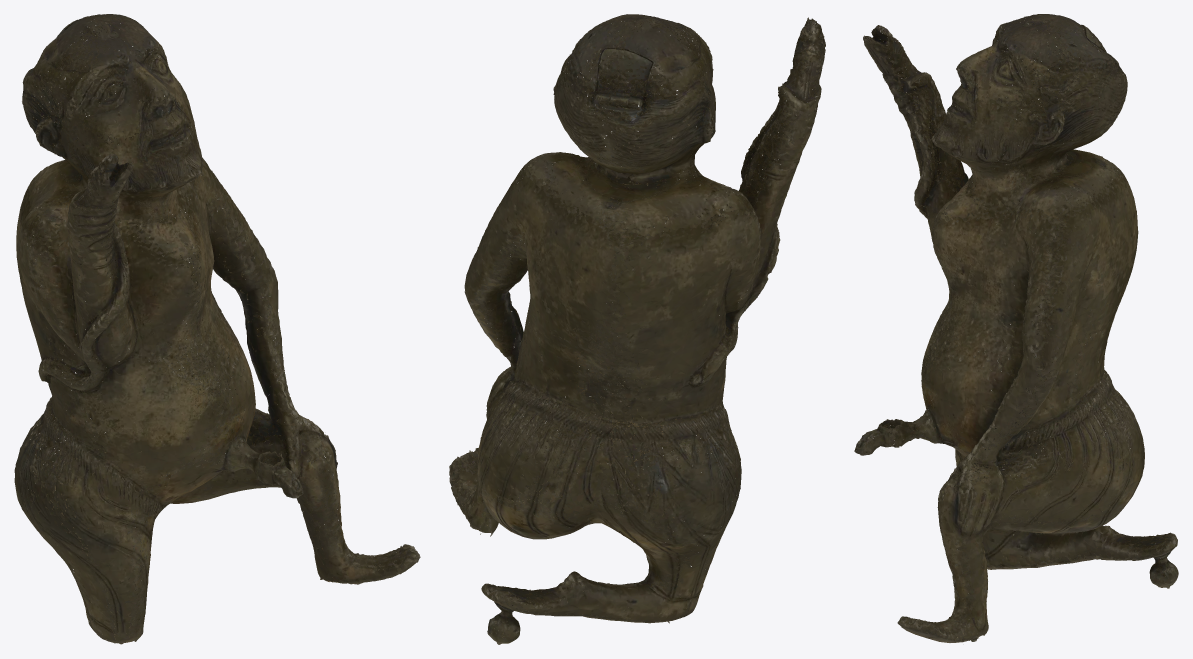
File: preview.glb
3 renders of one model, left to right at view 1: azimuth 30°, elevation 25°; view 2: azimuth 150°, elevation 25°; view 3: azimuth 270°, elevation 25°, orthographic. The views are drawn at different scales.
Parts seen in each view (by area): view 1: Stereo textured mesh_Material0_0, Stereo textured mesh_Material1_0; view 2: Stereo textured mesh_Material0_0, Stereo textured mesh_Material1_0; view 3: Stereo textured mesh_Material0_0, Stereo textured mesh_Material1_0.
Part boxes in pixels (box(x1,y1,x2,y2)): Stereo textured mesh_Material0_0: box(14, 15, 417, 644); Stereo textured mesh_Material1_0: box(19, 14, 420, 643); Stereo textured mesh_Material0_0: box(449, 14, 825, 644); Stereo textured mesh_Material1_0: box(449, 14, 825, 644); Stereo textured mesh_Material0_0: box(854, 14, 1176, 641); Stereo textured mesh_Material1_0: box(855, 14, 1178, 642).
Bounding box in the file's own units: 608 × 1000 × 531.
2 materials, 2 textured.
